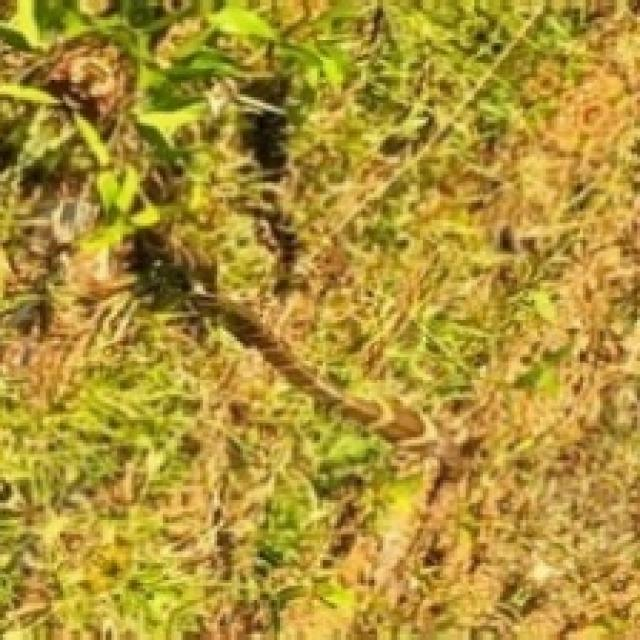king cobra: (189, 286, 437, 446)
